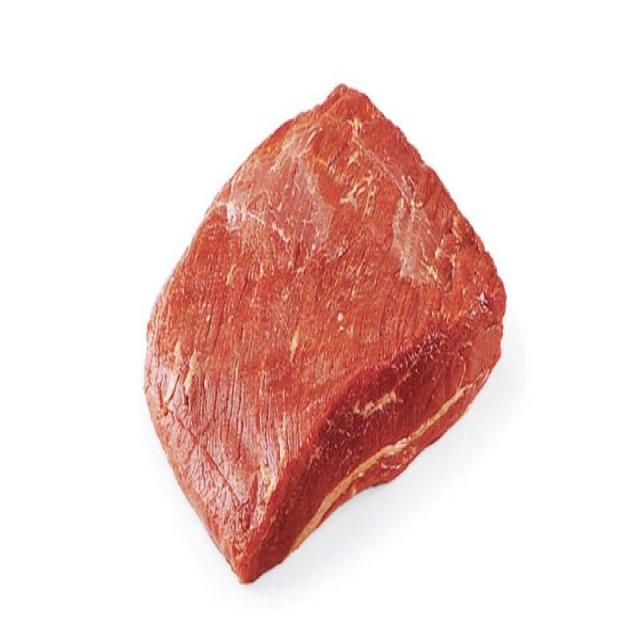beef: (133, 71, 518, 600)
